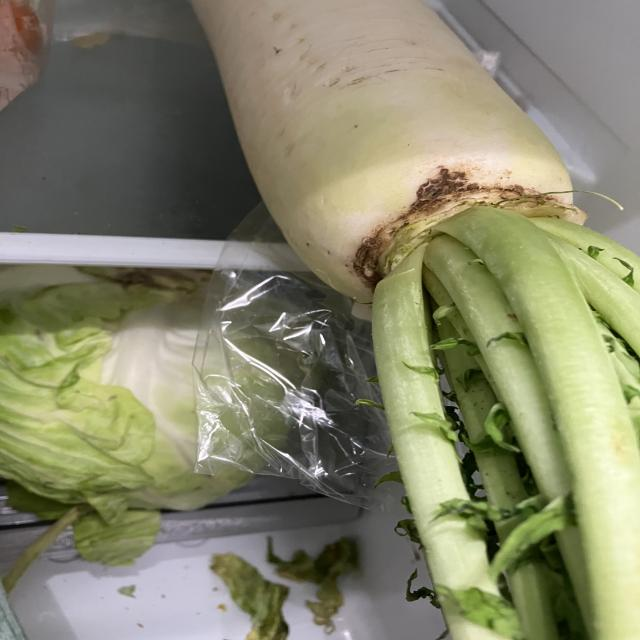cabbage: (1, 263, 323, 522)
